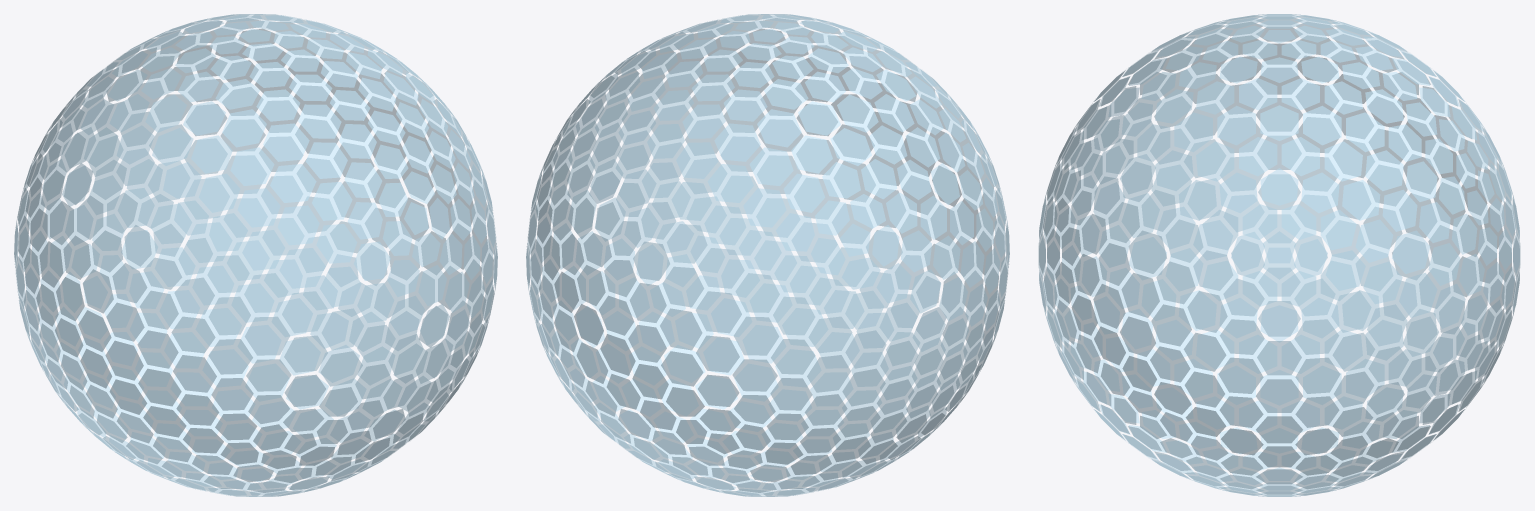
Rendered from DJShield.fbx.
The picture shows the model from 3 angles, left to right: view 1: azimuth 30°, elevation 25°; view 2: azimuth 150°, elevation 25°; view 3: azimuth 270°, elevation 25°; orthographic projection.
Parts seen in each view (by area): view 1: Shield; view 2: Shield; view 3: Shield.
Part boxes in pixels (<box>): Shield: <box>14,14,497,496</box>; Shield: <box>526,14,1009,496</box>; Shield: <box>1038,14,1520,496</box>.
Bounding box in the file's own units: 197 × 198 × 197.
